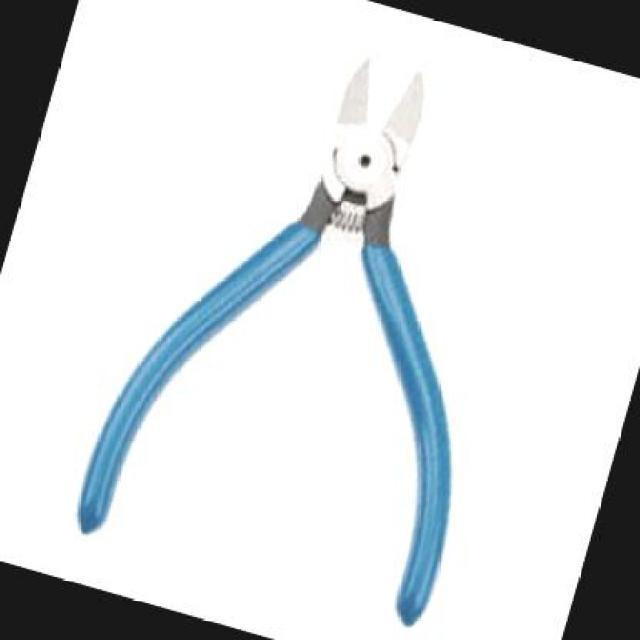pliers: (15, 0, 590, 638)
